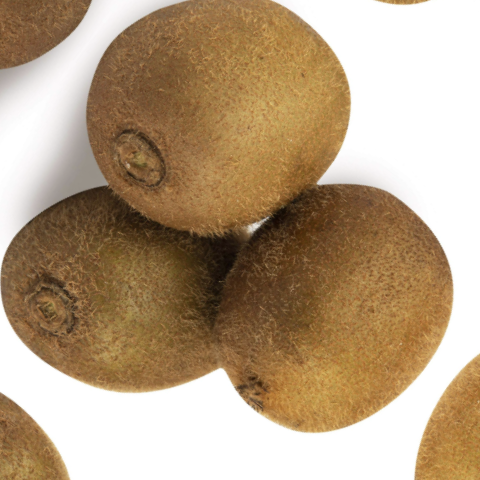kiwi: (19, 0, 415, 319), (162, 118, 480, 480), (0, 96, 302, 440)
